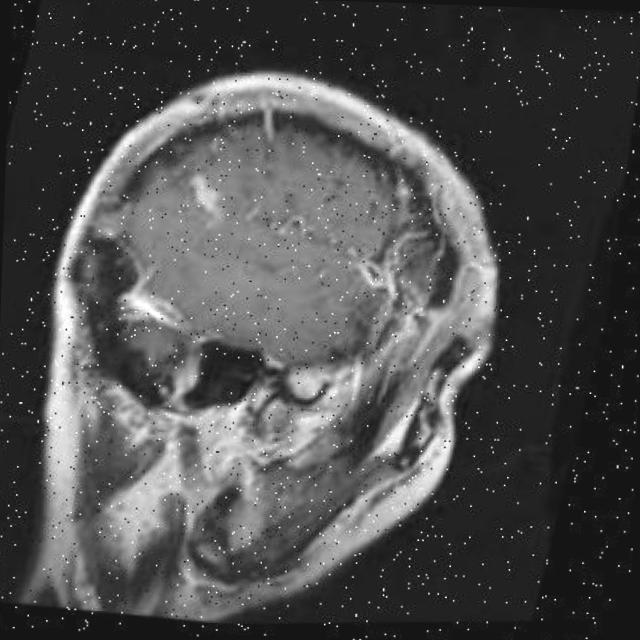CN: (142, 290, 348, 470)
